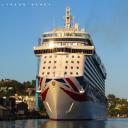cruises: (34, 8, 110, 124)
